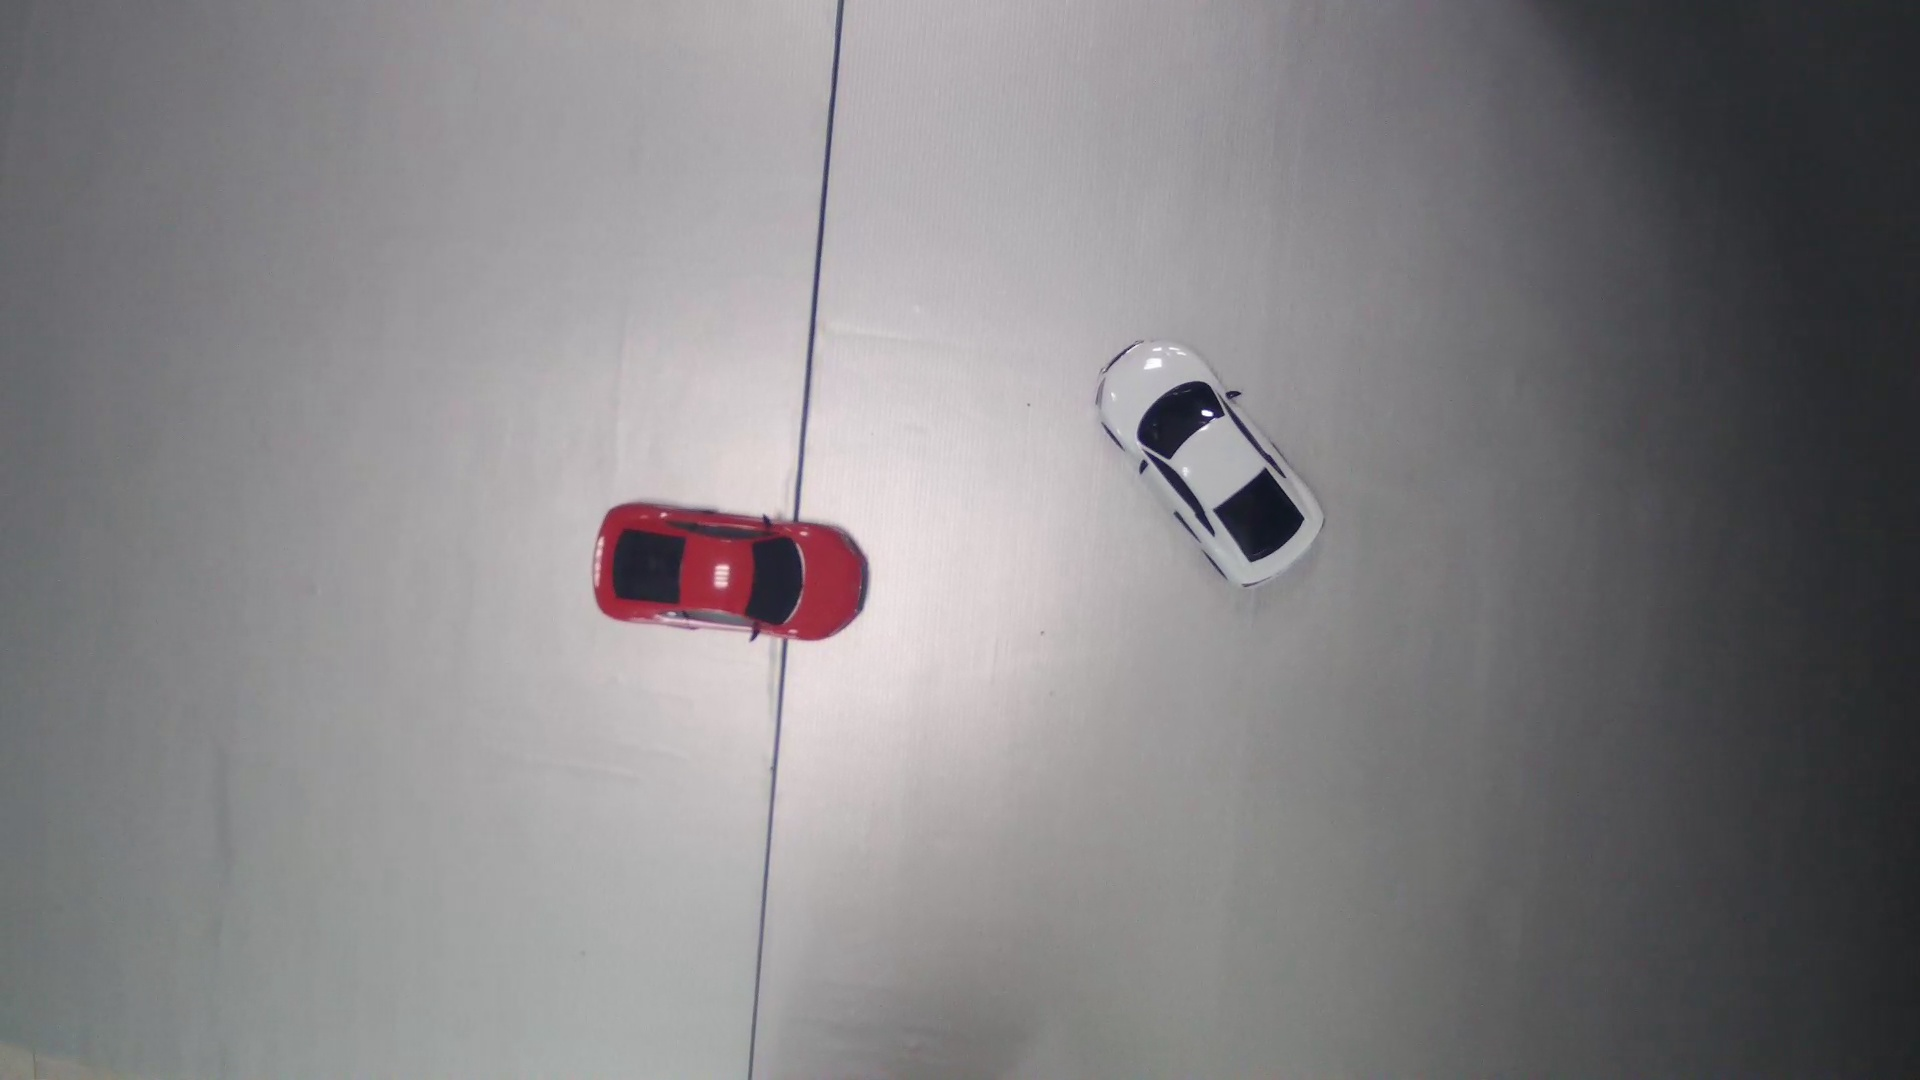remote_car: (1096, 338, 1331, 593), (589, 501, 869, 641)
